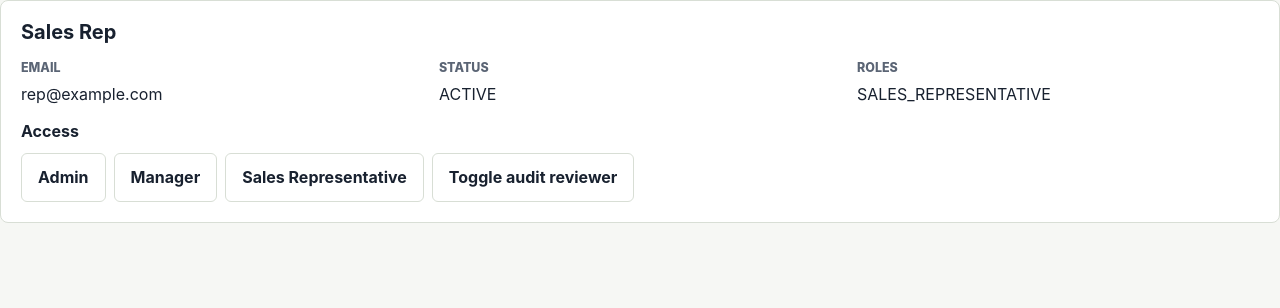
Scenario: UserDetail role updates › sends the role update payload and surfaces the updated user
Click the button "Manager". click: (165,178)
box: top-left (114, 153), bottom-right (217, 202)
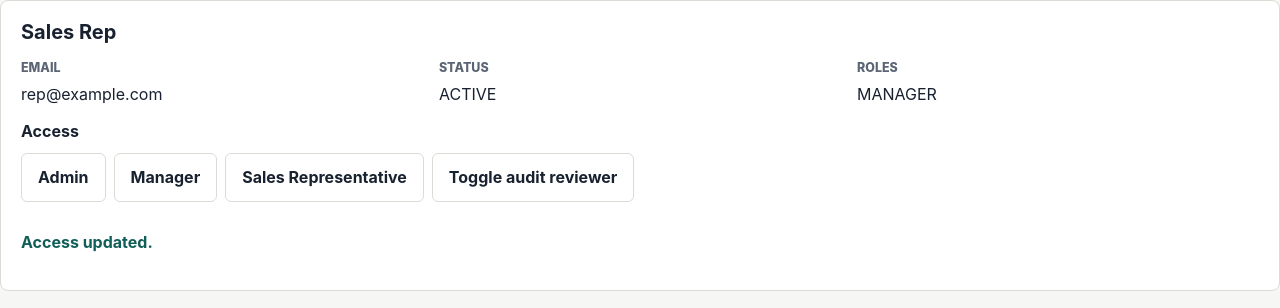
Check: the text "MANAGER" is shown, box top-left (857, 84), bottom-right (937, 104)
Check: the text "Access updated." is shown, box top-left (21, 232), bottom-right (153, 252)
